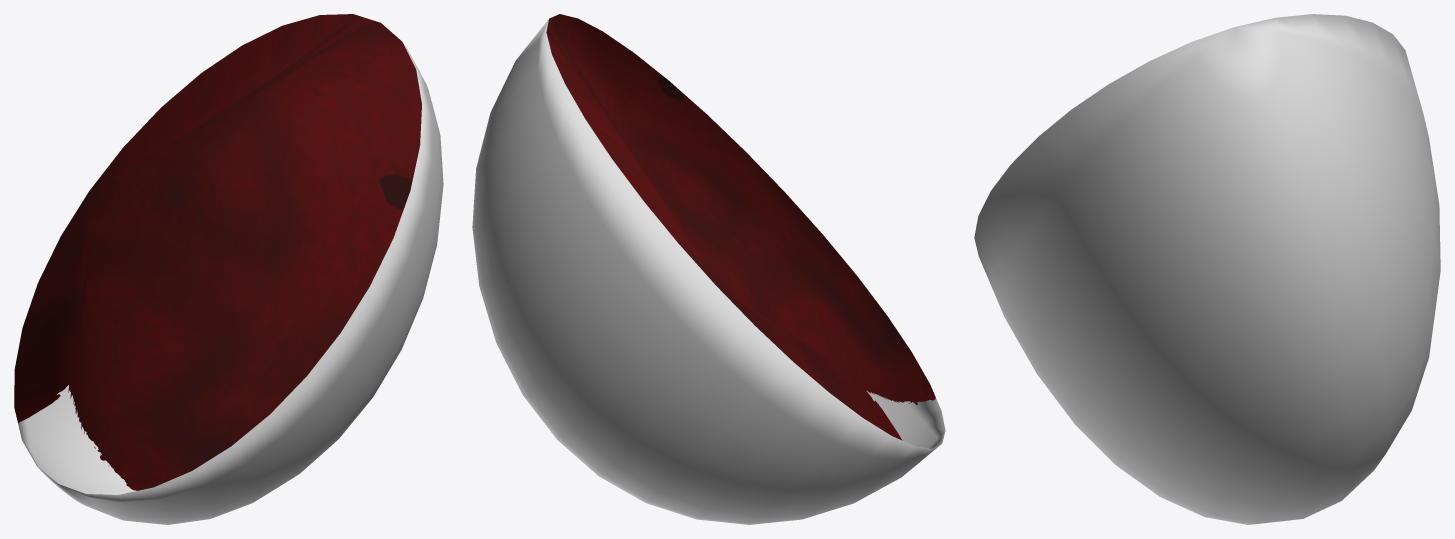
The model's file is AD_Demon_Eye_Left_Ex.fbx.
3 renders of one model, left to right at view 1: azimuth 30°, elevation 25°; view 2: azimuth 150°, elevation 25°; view 3: azimuth 270°, elevation 25°, orthographic. The views are drawn at different scales.
Visible parts, largest first — view 1: D_EyesLeft; view 2: D_EyesLeft; view 3: D_EyesLeft.
Boxes of the visible parts, x1,y1,x2,y2 form: D_EyesLeft: (14, 14, 443, 524); D_EyesLeft: (472, 14, 945, 524); D_EyesLeft: (974, 14, 1440, 524).
Size of the model in its own units: 38.22 by 39.05 by 28.04.
